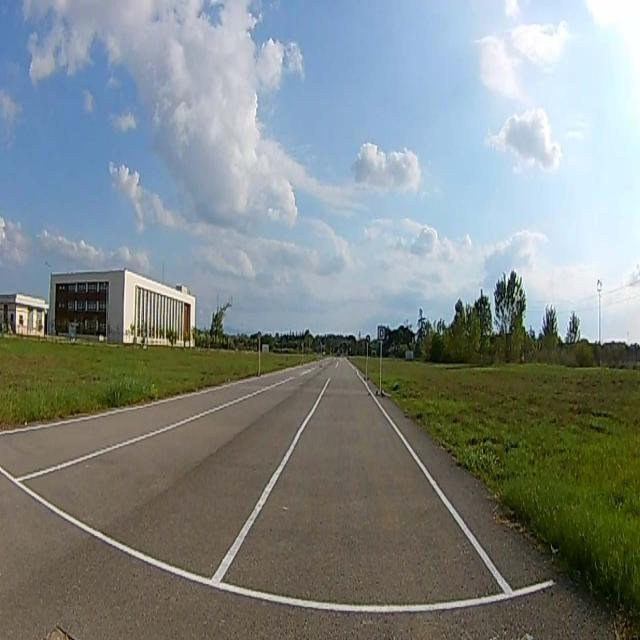durak: (378, 326, 385, 342)
